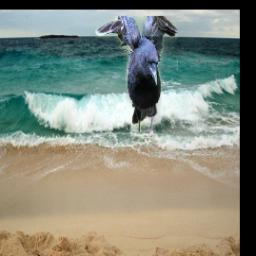Crow: (94, 17, 178, 133)
